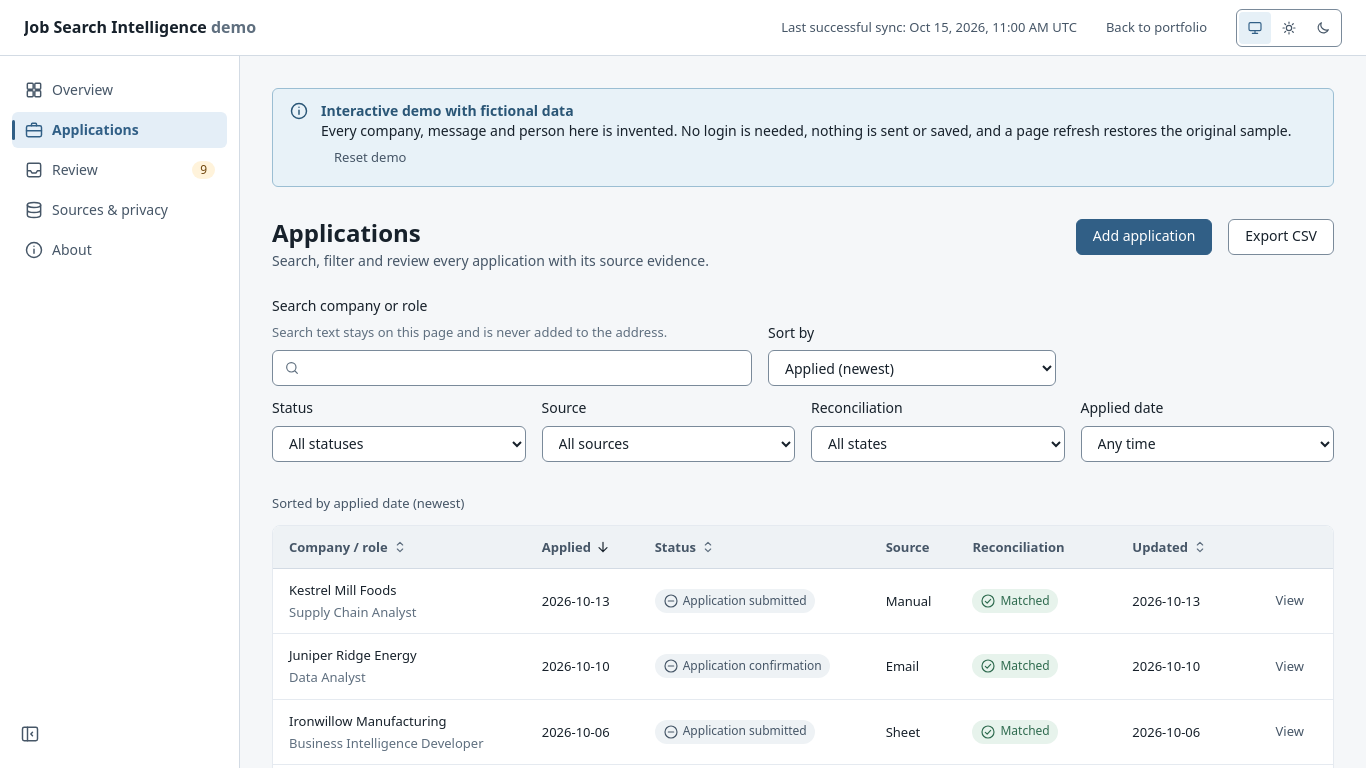
Test: applications › explains empty results and recovers with Clear all filters
Type "no such company" into the search field labelled "Search company or role".
click(512, 368); type("no such company")  # box top-left (272, 350), bottom-right (752, 386)
Then press Enter
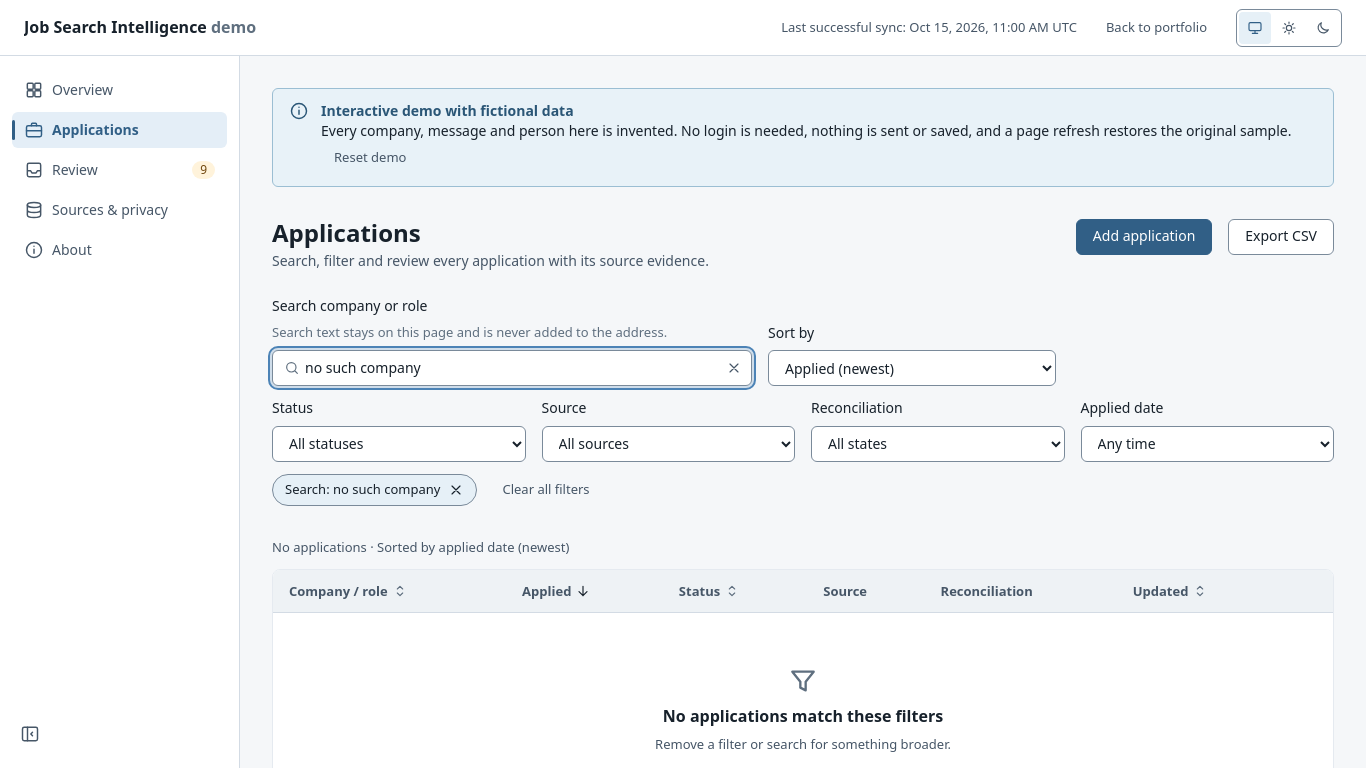
Now the text "No applications match these filters" is shown, box top-left (663, 705), bottom-right (943, 727)
Now the text "No applications · Sorted by applied date (newest)" is shown, box top-left (272, 538), bottom-right (569, 556)
Click the button "Clear all filters".
click(546, 490)  # box top-left (489, 474), bottom-right (602, 506)
(page scrolled)
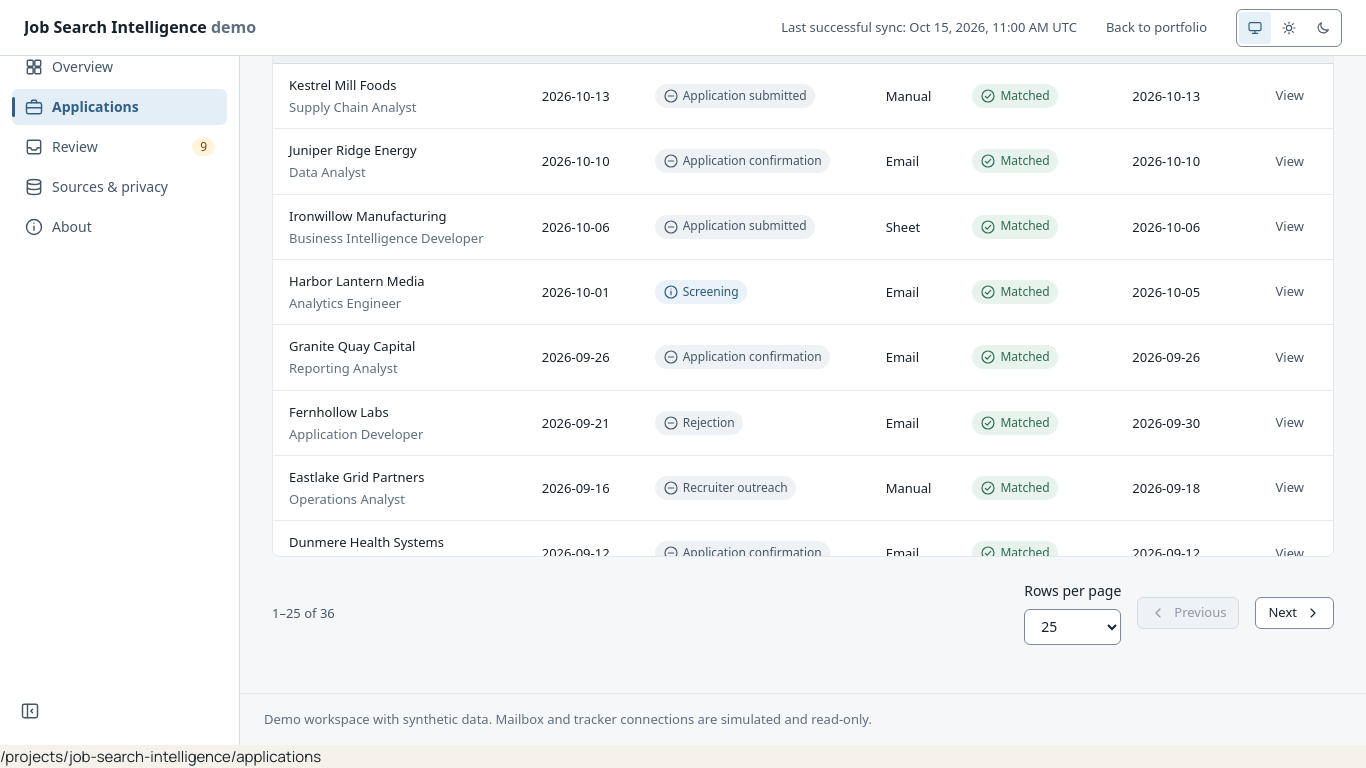
Now the text "1–25 of 36" is shown, box top-left (272, 604), bottom-right (335, 622)
